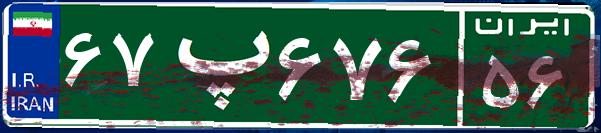5: (475, 38, 525, 113)
6: (385, 28, 445, 110), (273, 28, 330, 110), (57, 26, 110, 107), (525, 38, 570, 115)
7: (330, 28, 385, 110), (110, 28, 158, 105)
پ: (158, 15, 273, 115)
